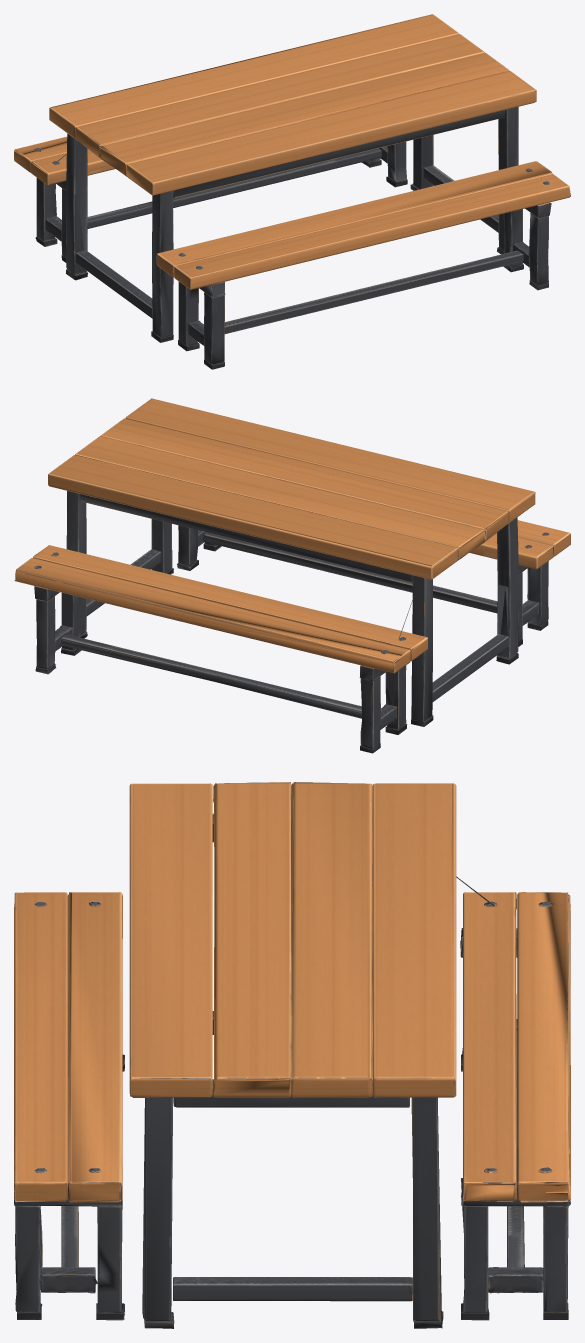
File: Meshy_AI_Industrial_Picnic_Table_20261011_texture.fbx
3 renders of one model, top to bottom at view 1: azimuth 30°, elevation 25°; view 2: azimuth 150°, elevation 25°; view 3: azimuth 270°, elevation 25°, orthographic. The views are drawn at different scales.
Visible parts, largest first — view 1: Mesh_0; view 2: Mesh_0; view 3: Mesh_0.
Boxes of the visible parts, bbox=[...] form: Mesh_0: bbox=[14, 14, 570, 369]; Mesh_0: bbox=[14, 398, 570, 753]; Mesh_0: bbox=[14, 782, 570, 1328].
Bounding box in the file's own units: 95.17 × 39.21 × 75.68.
Materials: 1 (1 with a texture image).
